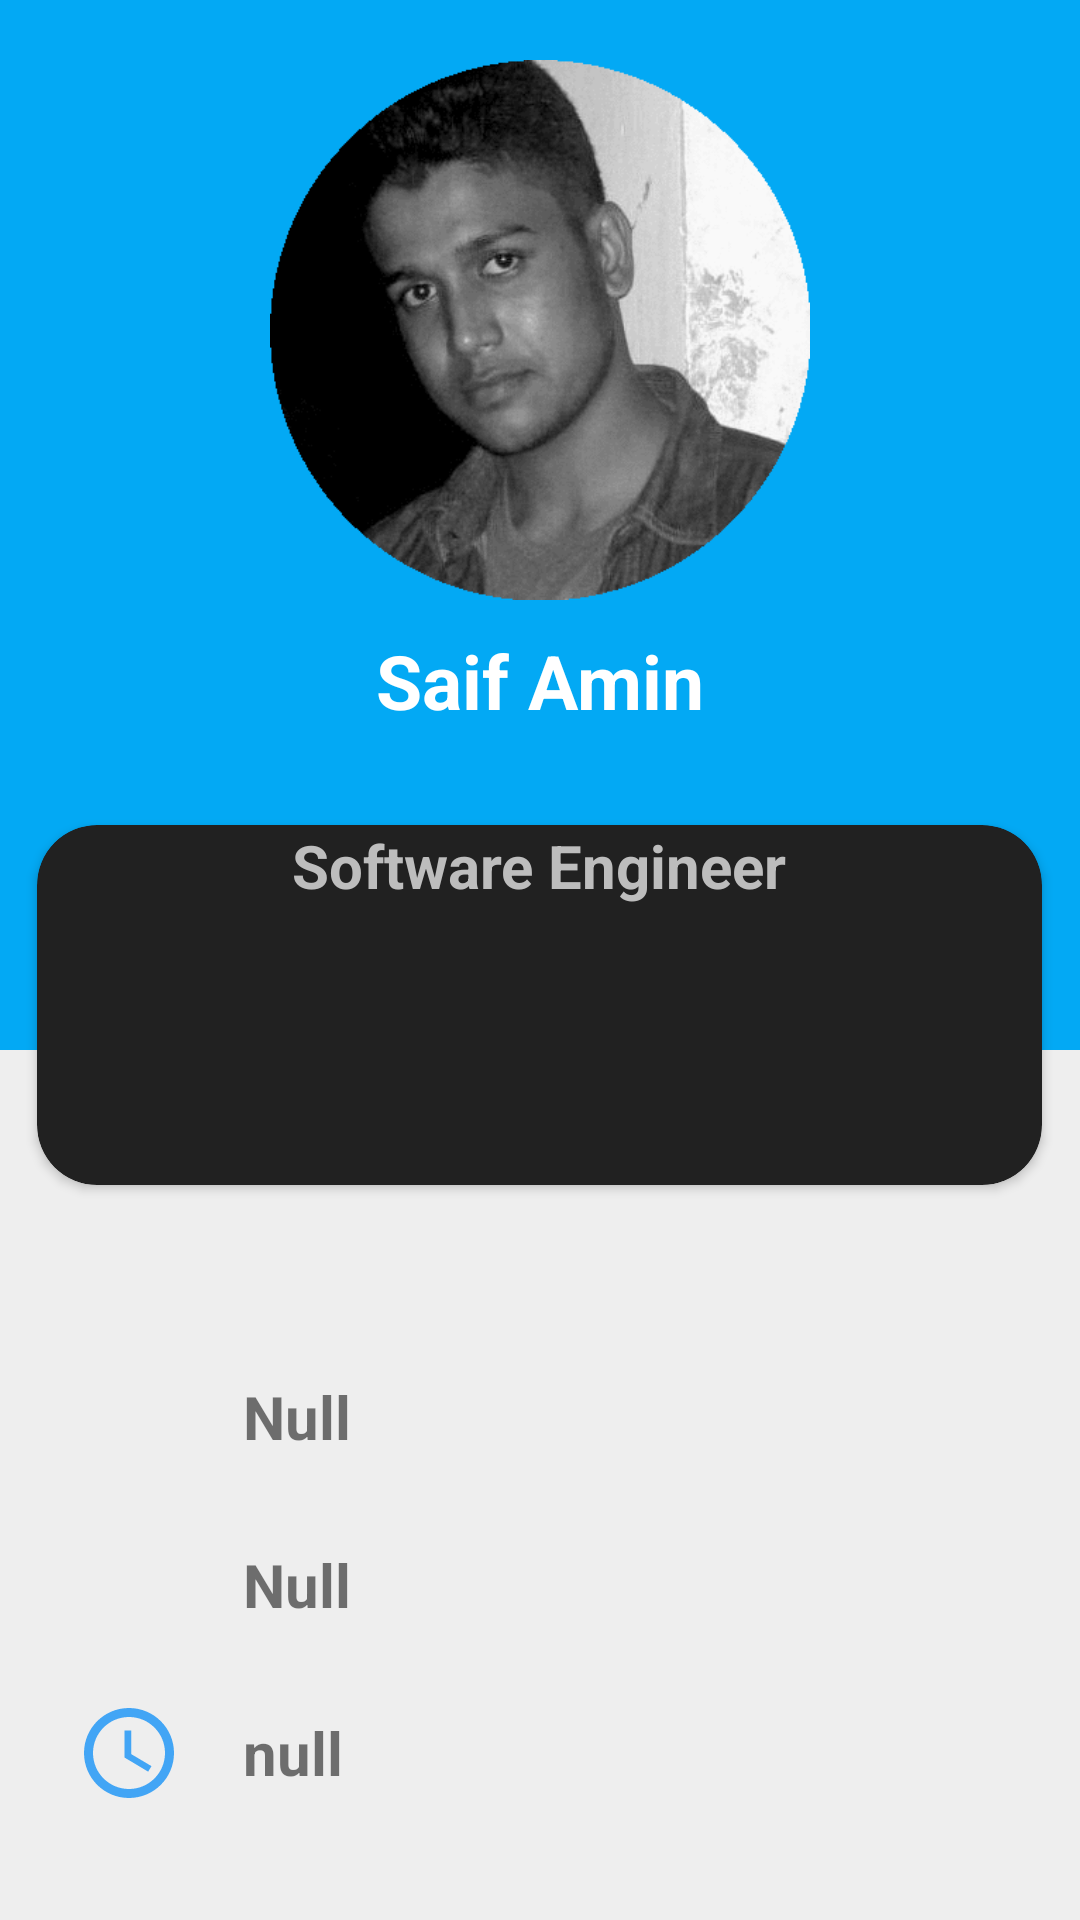

Icons on this 1080 x 1920 Android screen, each with its box as [left=x1, top=y1, right=x2, bottom=y2]:
schedule: [left=84, top=1708, right=174, bottom=1798]
